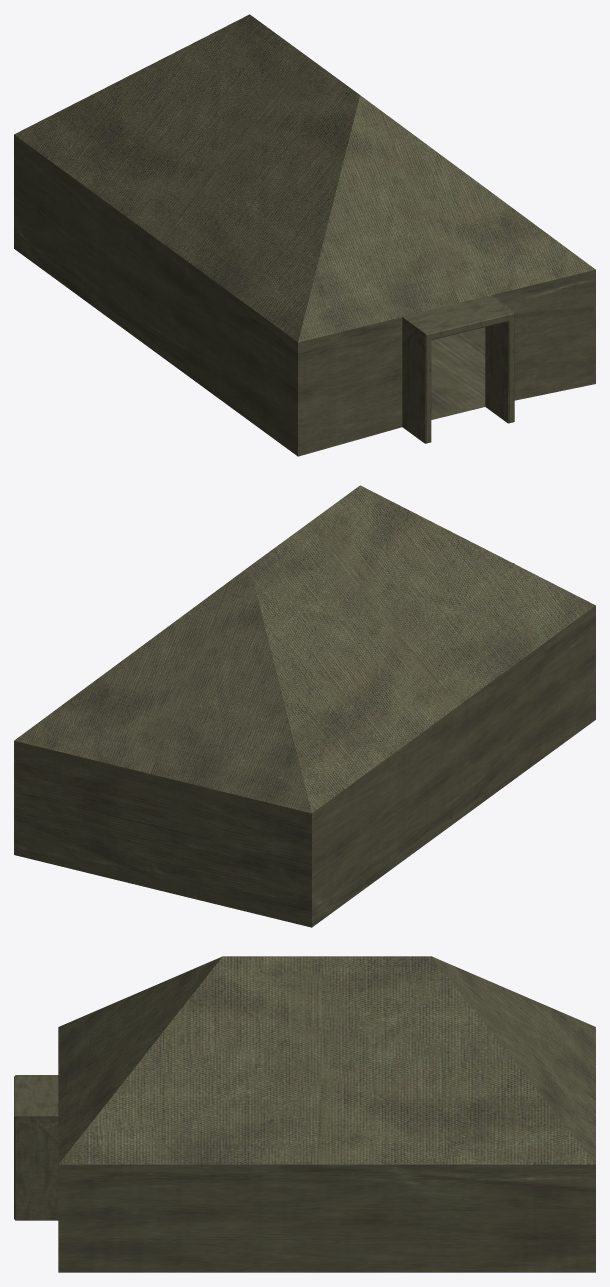
File: Barracazaada.fbx
The picture shows the model from 3 angles, top to bottom: view 1: azimuth 30°, elevation 25°; view 2: azimuth 150°, elevation 25°; view 3: azimuth 270°, elevation 25°; orthographic projection. The views are drawn at different scales.
Visible parts, largest first — view 1: pCube1; view 2: pCube1; view 3: pCube1.
Boxes of the visible parts, left/top/right/bottom form: pCube1: left=14, top=14, right=595, bottom=456; pCube1: left=14, top=485, right=595, bottom=927; pCube1: left=14, top=956, right=595, bottom=1272.
Bounding box in the file's own units: 8.27 × 6.94 × 14.79.
1 material, 1 textured.
